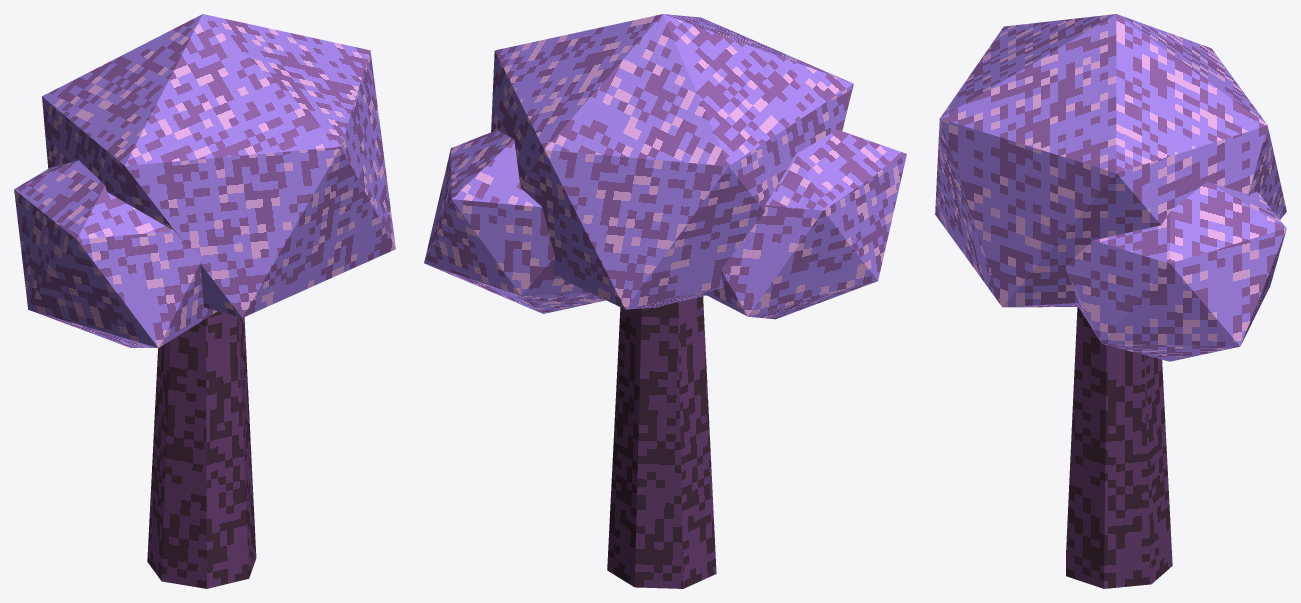
File: a95_arvore_do_tempo_1.glb
The picture shows the model from 3 angles, left to right: view 1: azimuth 30°, elevation 25°; view 2: azimuth 150°, elevation 25°; view 3: azimuth 270°, elevation 25°; orthographic projection.
Parts seen in each view (by area): view 1: a95_arvore_do_tempo_1; view 2: a95_arvore_do_tempo_1; view 3: a95_arvore_do_tempo_1.
Part boxes in pixels (x1,y1,x2,y2): a95_arvore_do_tempo_1: (14, 14, 395, 588); a95_arvore_do_tempo_1: (424, 14, 906, 588); a95_arvore_do_tempo_1: (935, 14, 1286, 588).
Bounding box in the file's own units: 3.28 × 4.55 × 2.63.
2 materials, 2 textured.
